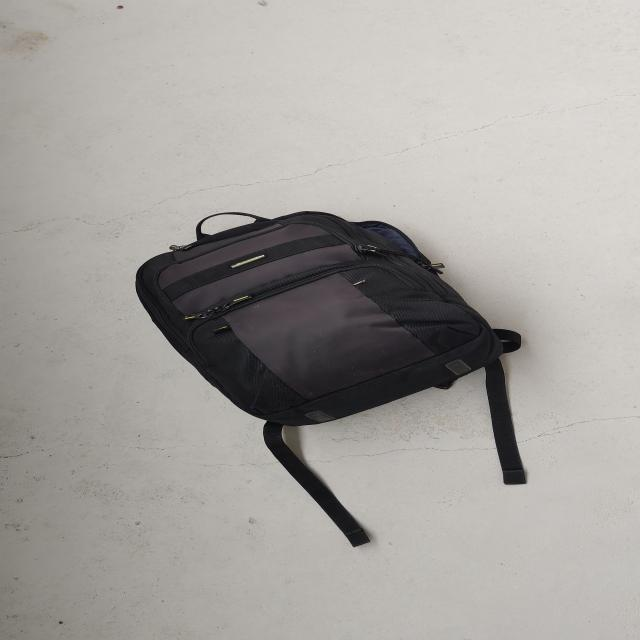backpack: (122, 203, 518, 434)
